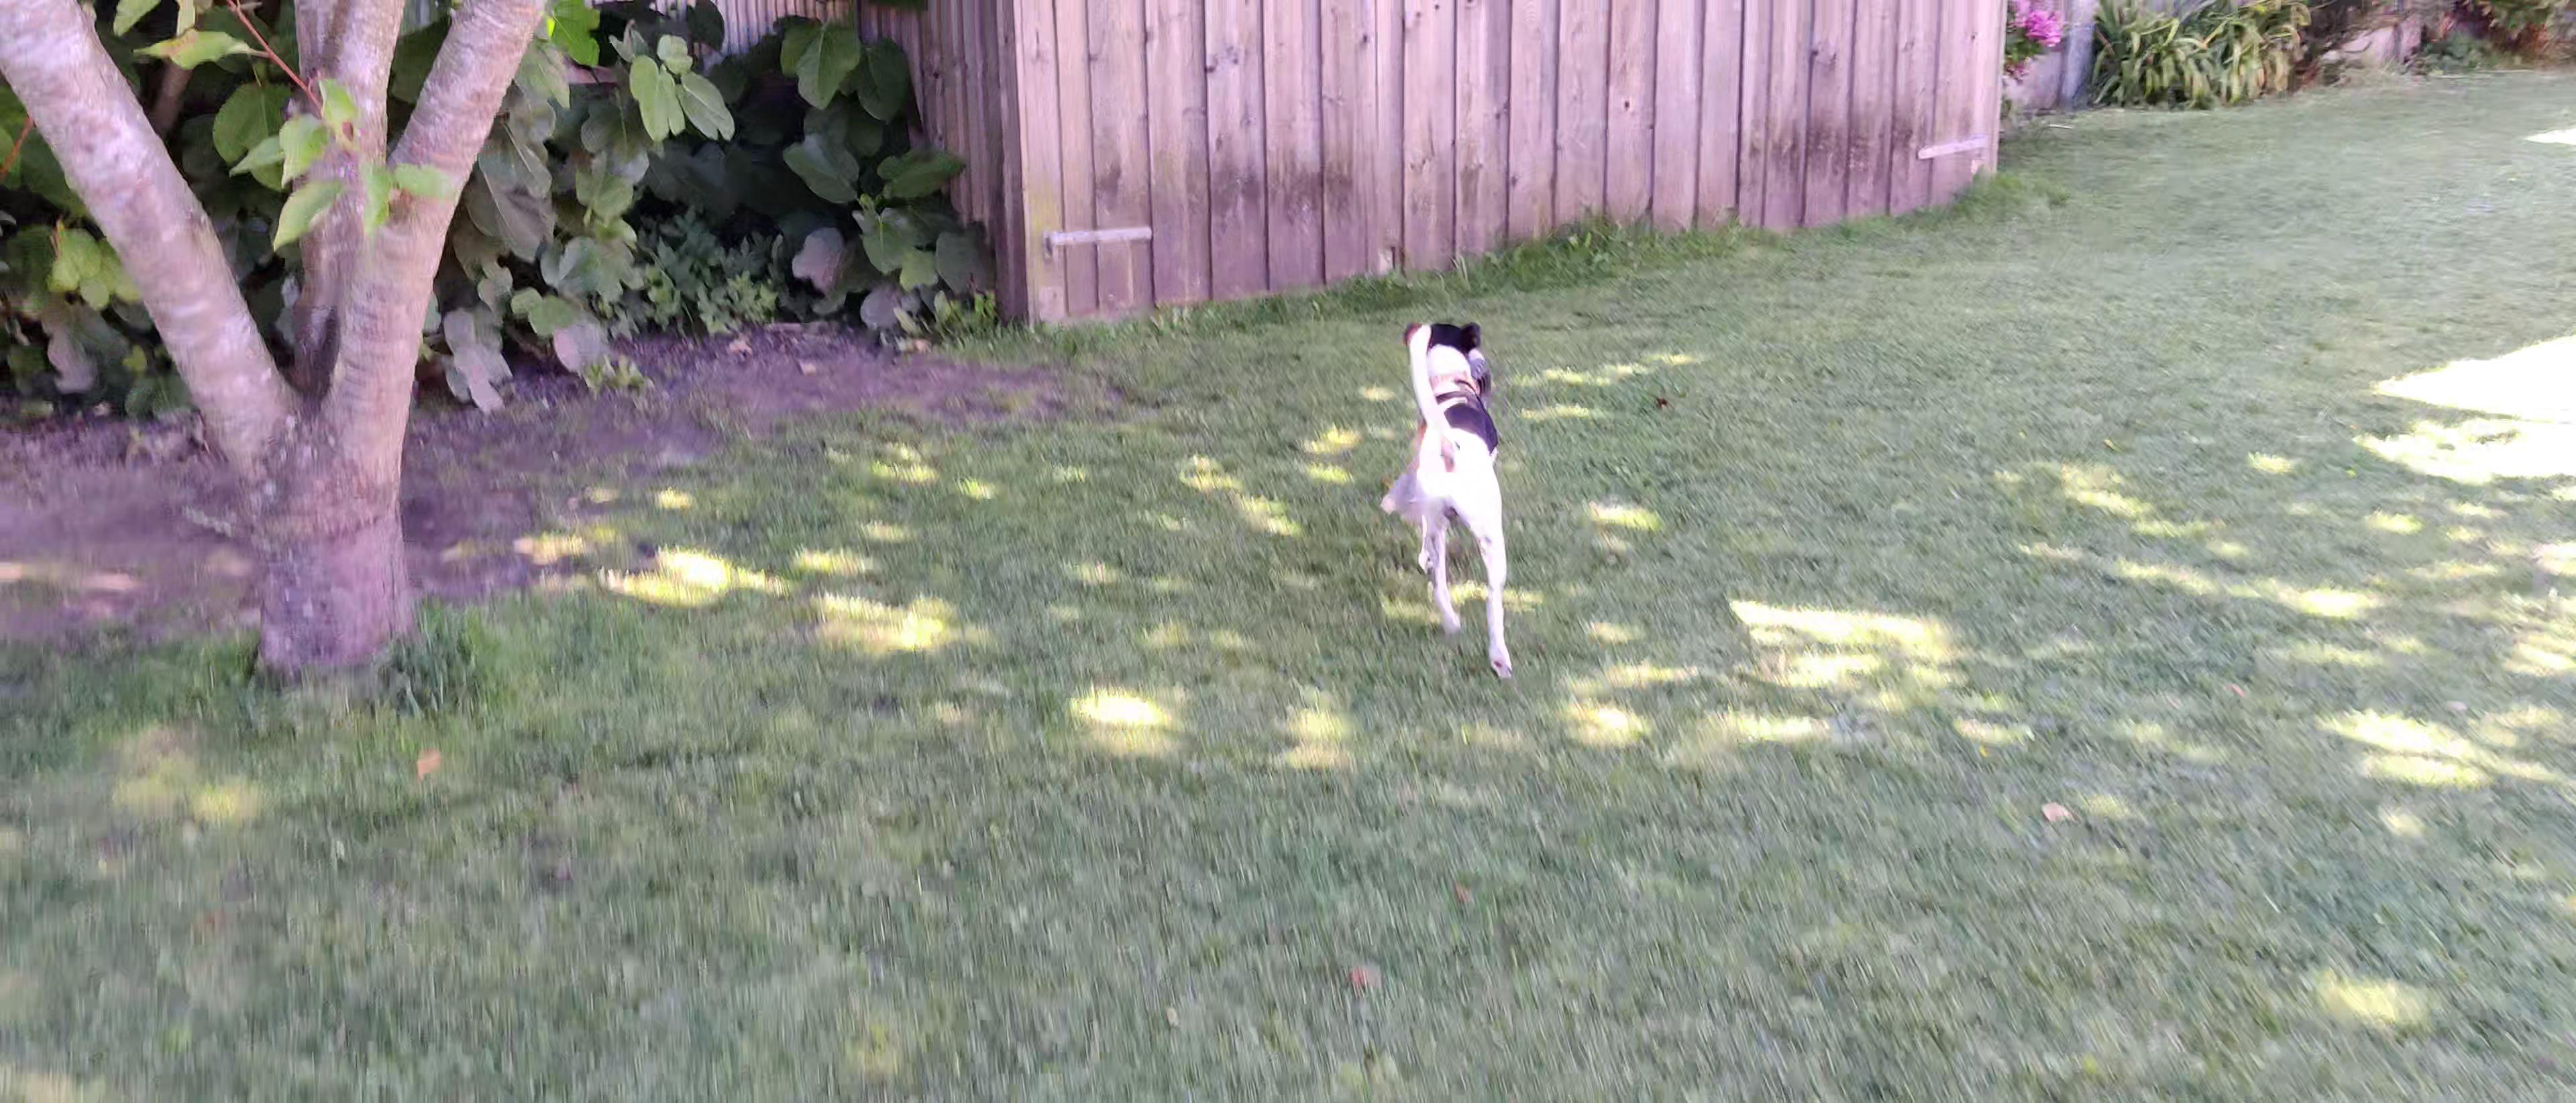Dog: (1388, 316, 1516, 685)
